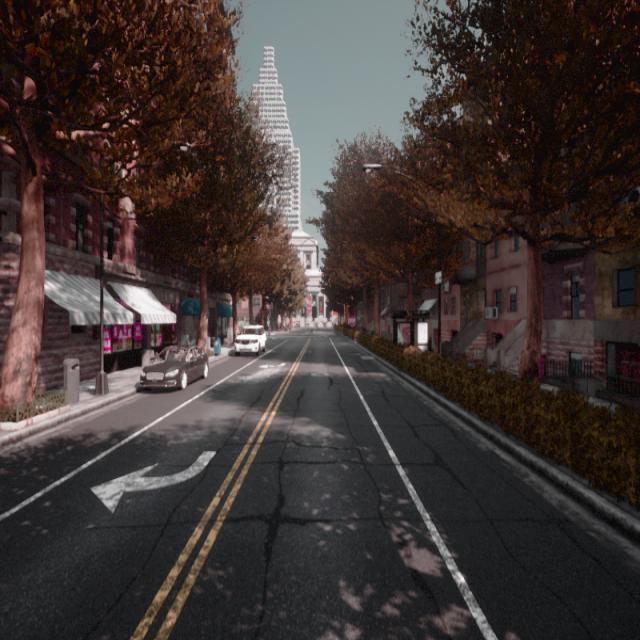stop sign: (348, 313, 358, 331)
